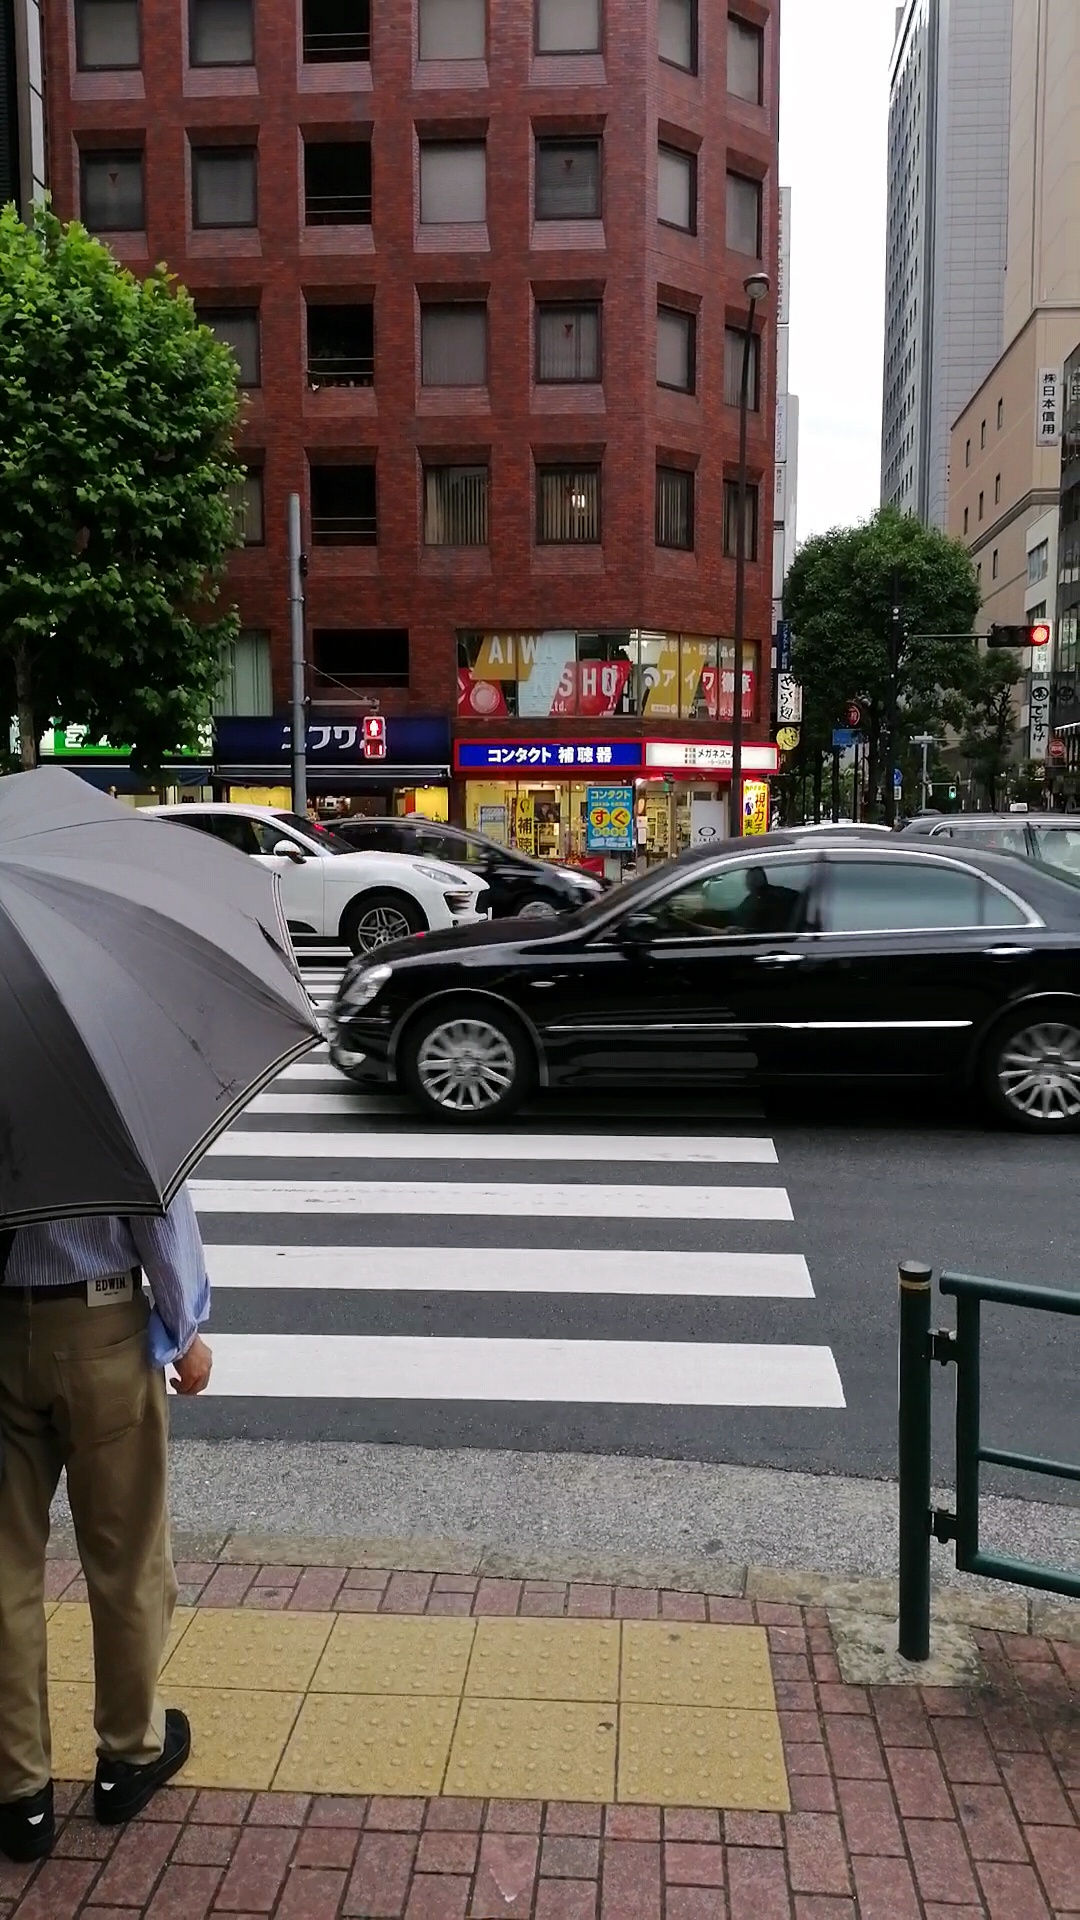red: (363, 715, 385, 760)
